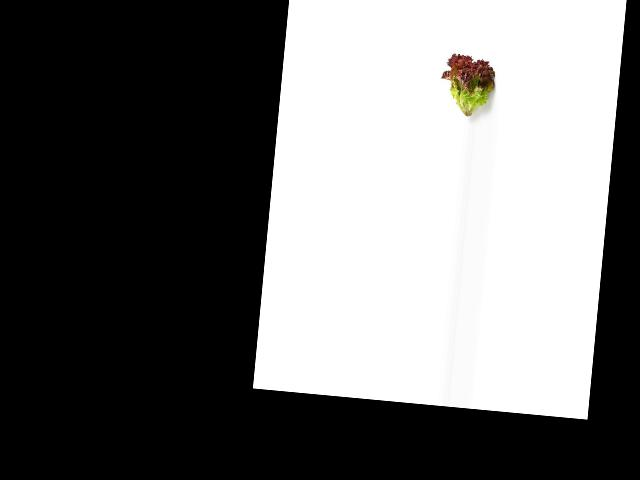lettuce: (439, 49, 498, 126)
